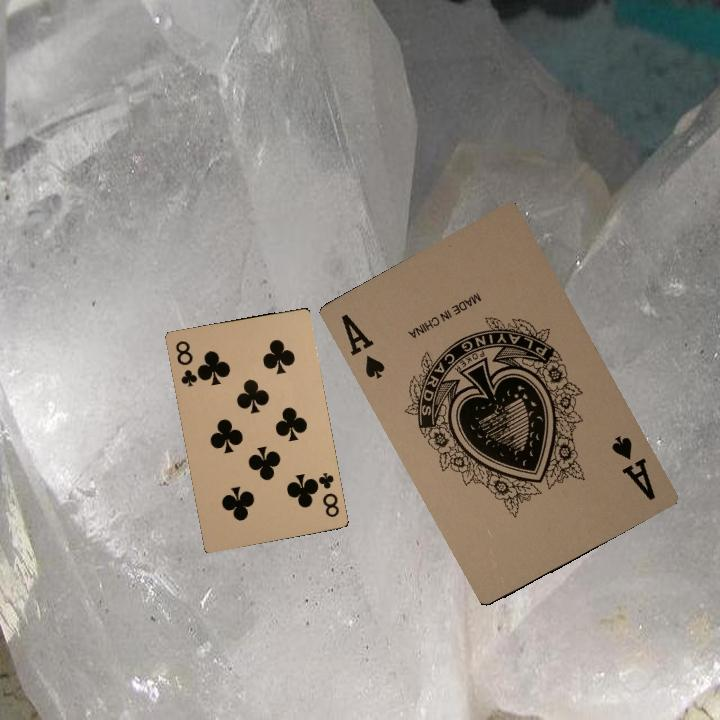8c: (310, 469, 342, 520), (171, 337, 201, 389)
As: (337, 309, 388, 381), (607, 432, 658, 503)
